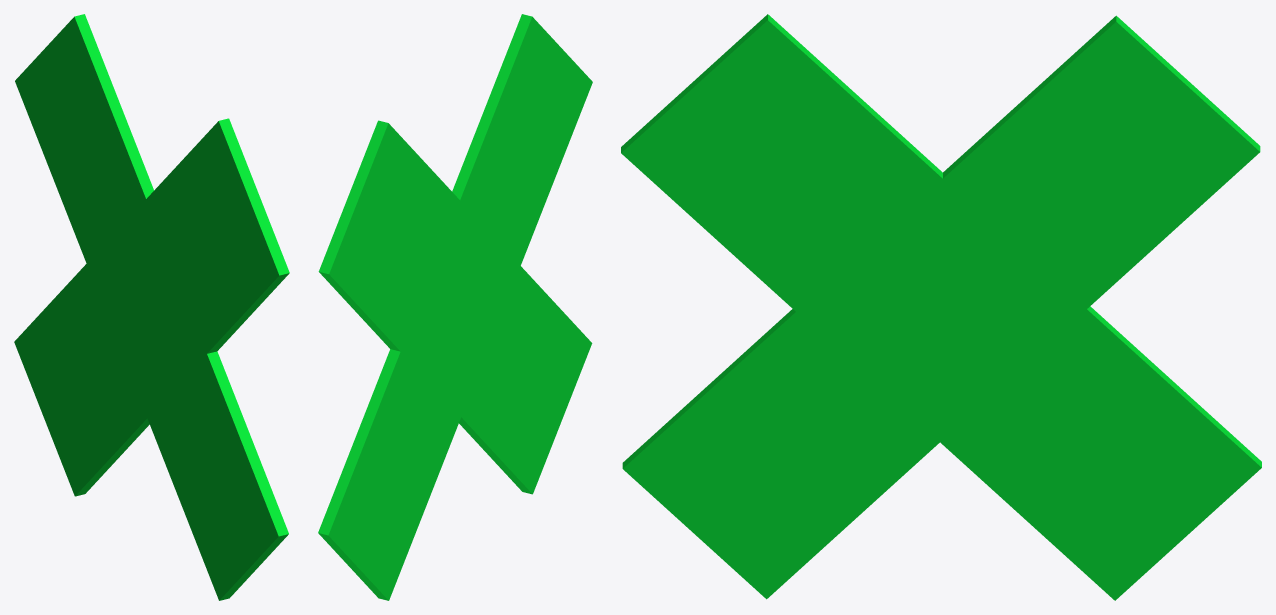
3 views of the same model, side by side, from view 1: azimuth 30°, elevation 25°; view 2: azimuth 150°, elevation 25°; view 3: azimuth 270°, elevation 25° (orthographic). The views are drawn at different scales.
Parts seen in each view (by area): view 1: Cube; view 2: Cube; view 3: Cube.
Boxes of the visible parts, x1,y1,x2,y2 form: Cube: [14, 14, 289, 600]; Cube: [318, 14, 592, 600]; Cube: [621, 14, 1261, 600].
Bounding box in the file's own units: 1.37 × 60.29 × 60.29.
